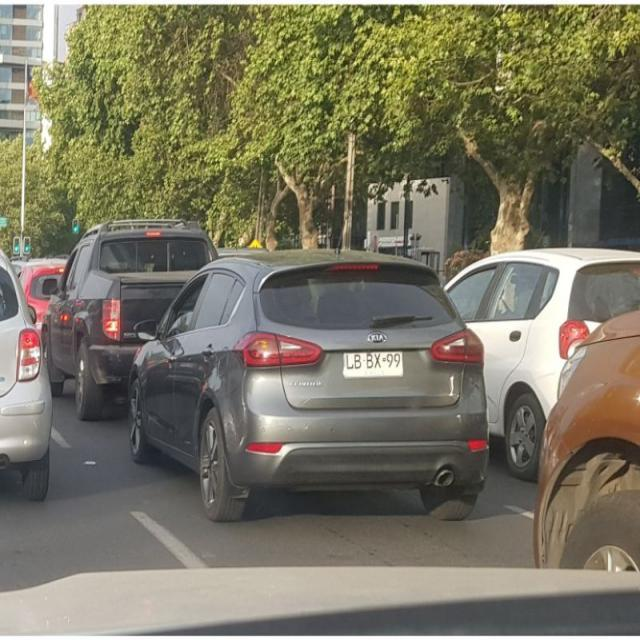Car: (124, 247, 490, 523), (441, 245, 639, 482), (531, 308, 639, 573), (0, 247, 53, 501)
Pickup: (39, 217, 219, 421)
Traffic-light: (71, 218, 79, 234)
